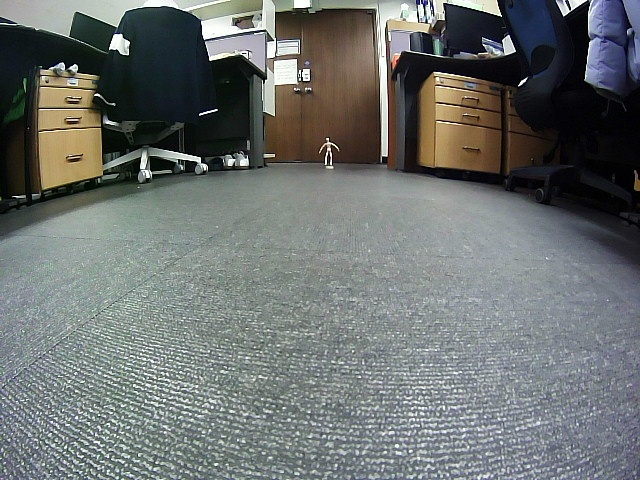person: (319, 136, 340, 164)
